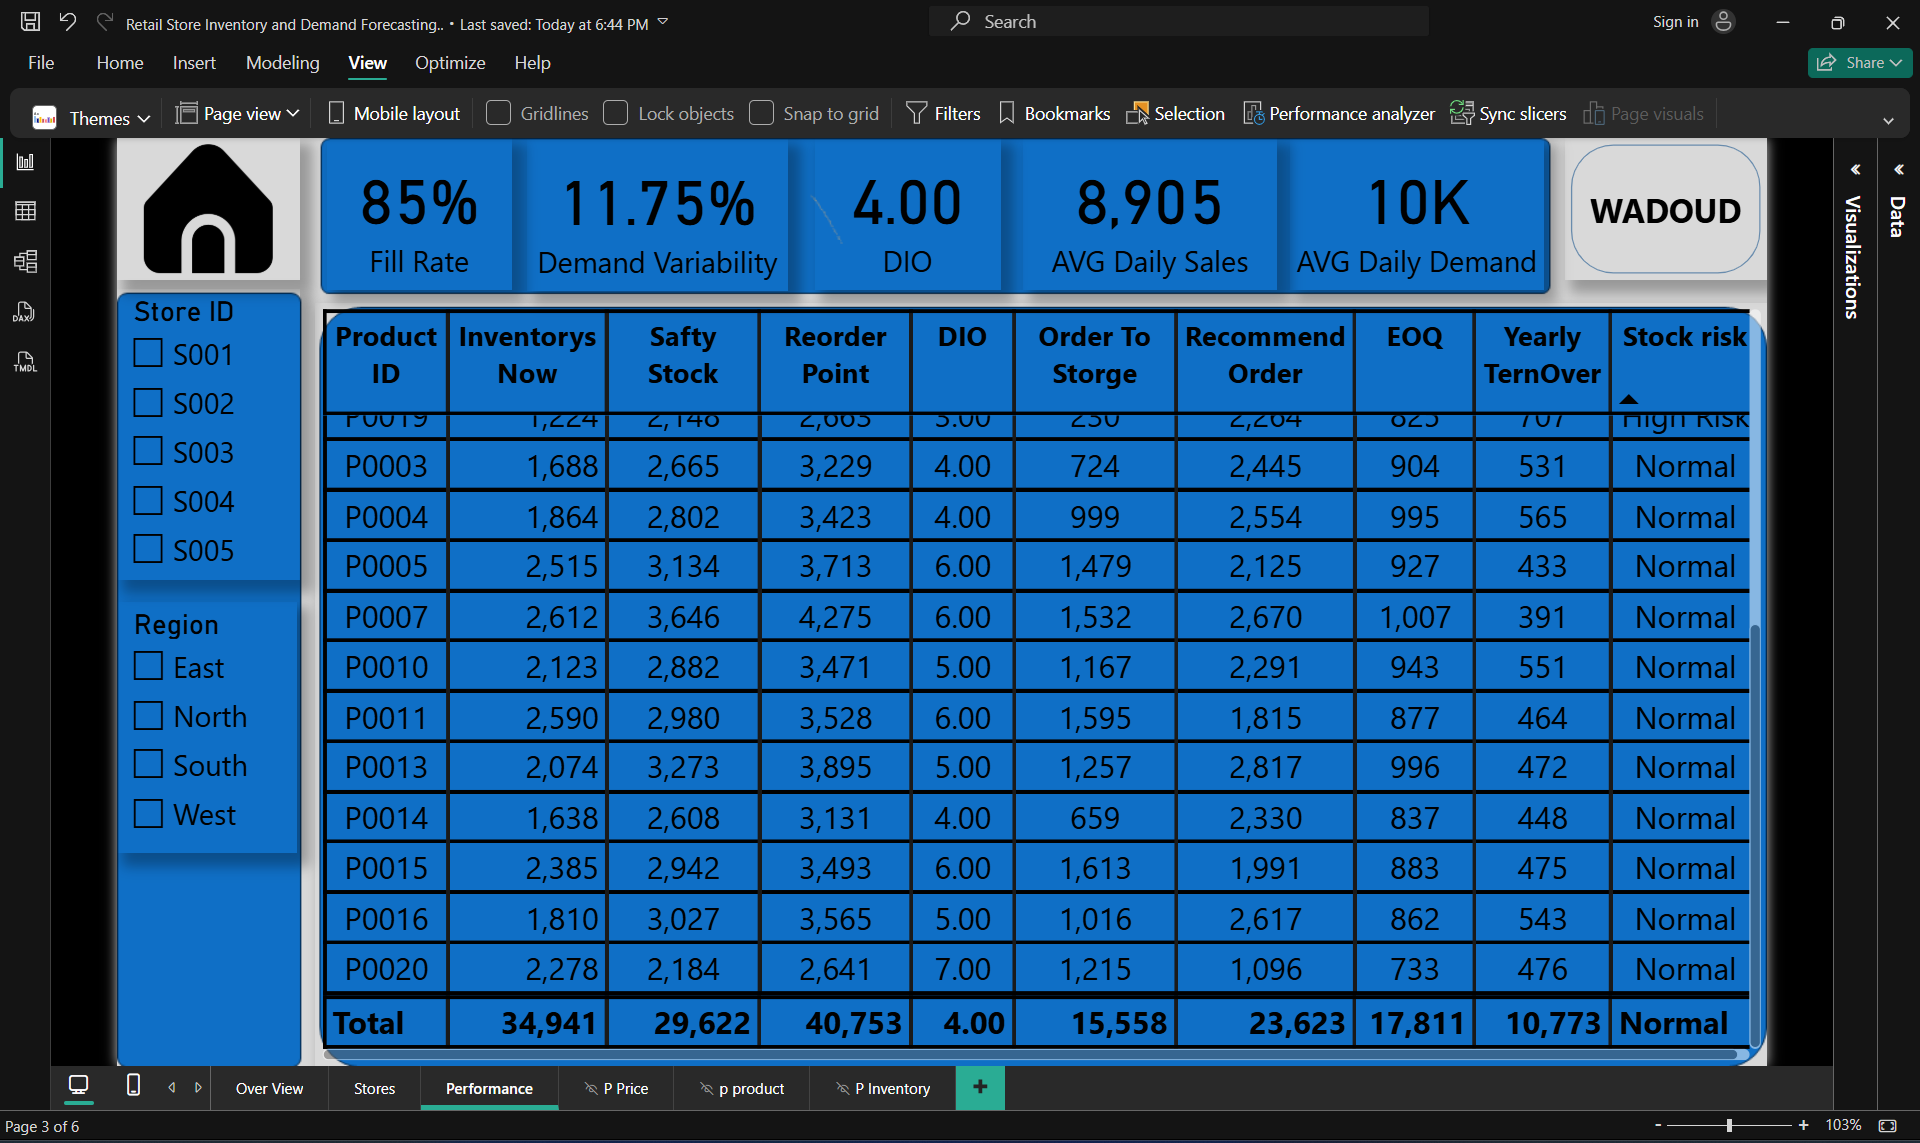

The page's visual inventory and layout, read from the dashboard file:
{"tool":"powerbi","page":{"name":"Performance","canvas":[1280,720],"ordinal":2},"visuals":[{"type":"tableEx","fields":{"Values":["sales_data.Product_ID","sales_data.Inventorys Now","sales_data.Safty Stock","sales_data.Rorder Point","sales_data.Inventory Coverage","sales_data.Order To Storge","sales_data.Recommended Order","sales_data.EOQ","sales_data.Yearly TernOver","sales_data.Stock risk and over"]},"box":[153.1,127.6,1126.8,592.4],"z":0},{"type":"slicer","fields":{"Values":["sales_data.Store_ID"]},"box":[0,117.7,141.8,225.3],"z":1000},{"type":"slicer","fields":{"Values":["sales_data.Region"]},"box":[0,360,138.9,195.6],"z":2000},{"type":"card","fields":{"Values":["sales_data.Fill Rate"]},"box":[163.2,0,143.4,117.4],"z":3000},{"type":"card","fields":{"Values":["sales_data.AVG Daily Unit Demand"]},"box":[909.2,0,197.7,117.3],"z":4000},{"type":"card","fields":{"Values":["sales_data.AVG Daily Unit Sales"]},"box":[702.6,0,197,117.6],"z":5000},{"type":"card","fields":{"Values":["sales_data.DIO"]},"box":[540.7,0,144.6,117.6],"z":6000},{"type":"card","fields":{"Values":["sales_data.Demand Variability"]},"box":[318,1,202.7,117.4],"z":7000},{"type":"image","box":[0,0,141.8,110.1],"z":10000},{"type":"shape","box":[1122.8,0,157,110.1],"z":11000}]}

Visuals, with their boxes on the page's 1280x720 design canvas (x1, y1, x2, y2). These are canvas units, not pixel positions in the 1920x1143 screenshot, which may show the page scaled, cropped or inside an application window:
tableEx - sales_data.Product_ID x sales_data.Inventorys Now: [x1=153, y1=128, x2=1280, y2=720]
slicer - sales_data.Store_ID: [x1=0, y1=118, x2=142, y2=343]
slicer - sales_data.Region: [x1=0, y1=360, x2=139, y2=556]
card - sales_data.Fill Rate: [x1=163, y1=0, x2=307, y2=117]
card - sales_data.AVG Daily Unit Demand: [x1=909, y1=0, x2=1107, y2=117]
card - sales_data.AVG Daily Unit Sales: [x1=703, y1=0, x2=900, y2=118]
card - sales_data.DIO: [x1=541, y1=0, x2=685, y2=118]
card - sales_data.Demand Variability: [x1=318, y1=1, x2=521, y2=118]
image: [x1=0, y1=0, x2=142, y2=110]
shape: [x1=1123, y1=0, x2=1280, y2=110]
